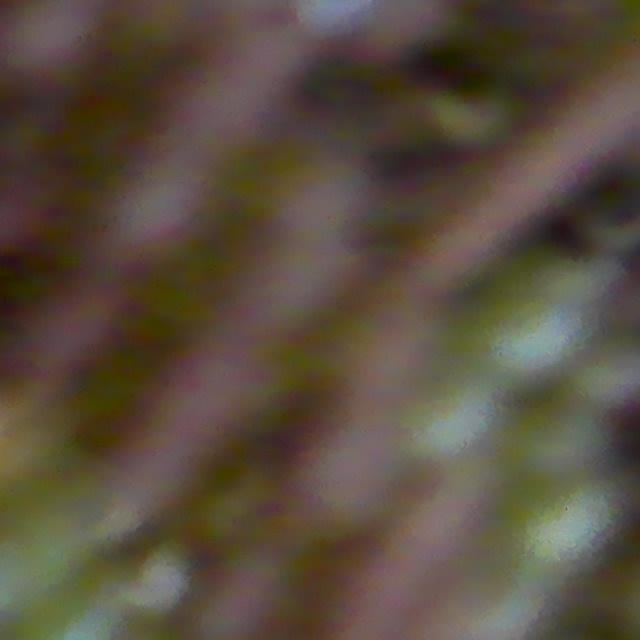SeaGrape: (507, 471, 624, 585), (519, 402, 608, 486)
